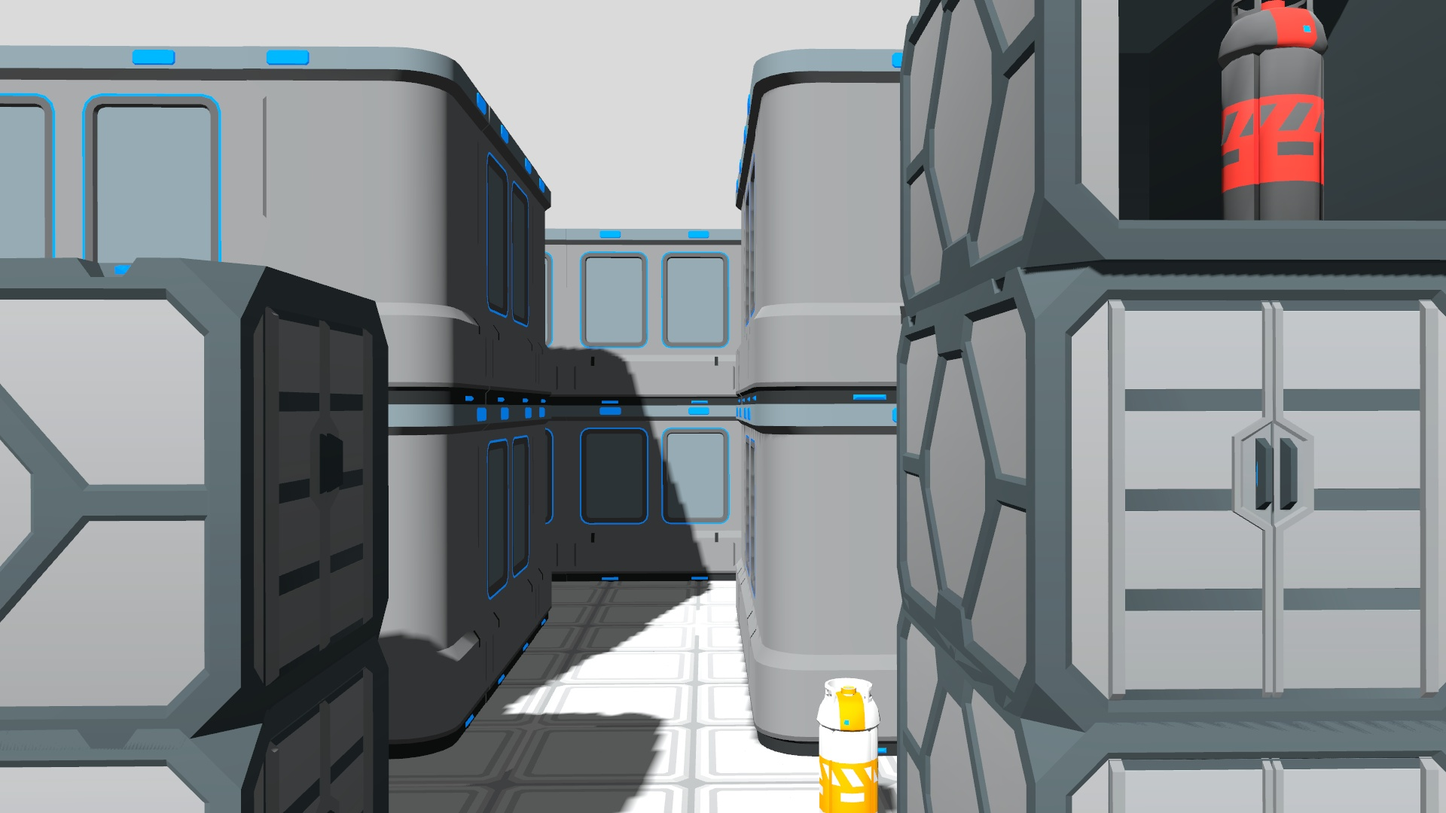red_barrel: (1212, 0, 1337, 230)
yellow_barrel: (813, 673, 886, 813)
